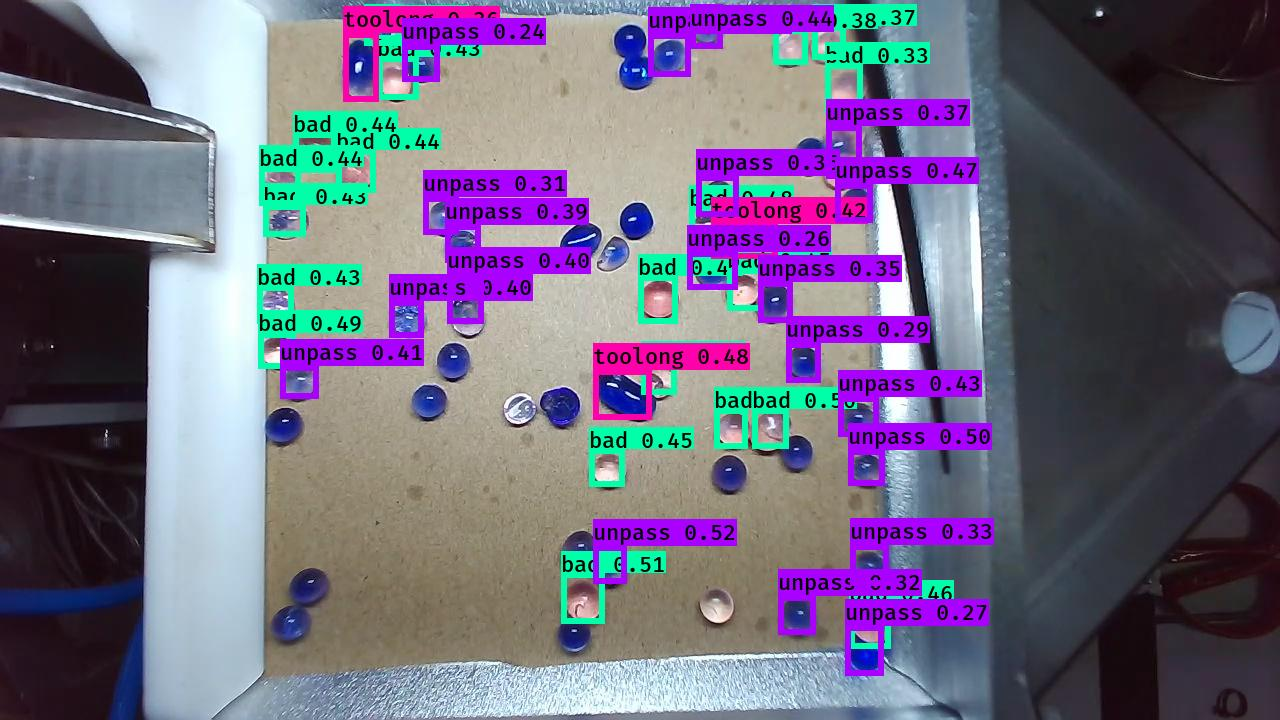bad: (559, 577, 605, 621), (297, 128, 341, 173), (639, 277, 683, 322), (336, 149, 379, 194), (826, 68, 869, 113), (259, 169, 306, 209), (753, 407, 792, 455), (694, 585, 735, 629), (824, 151, 864, 191), (850, 606, 893, 643), (365, 10, 404, 49), (809, 29, 846, 69), (269, 205, 313, 238), (715, 411, 752, 450), (770, 30, 807, 69), (591, 453, 632, 488), (258, 288, 295, 326), (689, 206, 725, 244), (724, 274, 760, 310), (501, 392, 536, 428), (642, 363, 675, 399), (260, 334, 295, 367), (379, 67, 412, 102)
defact: (595, 234, 631, 271)
pass: (556, 219, 601, 264), (540, 389, 581, 433), (709, 453, 750, 497), (263, 408, 306, 449), (287, 568, 330, 609), (270, 604, 311, 646), (411, 382, 452, 423), (436, 337, 477, 377), (559, 526, 595, 569), (779, 598, 818, 637), (555, 614, 593, 654), (616, 53, 654, 93), (616, 202, 654, 241), (793, 135, 827, 178), (779, 436, 814, 474), (614, 22, 647, 62)
toolong: (594, 371, 654, 423), (342, 40, 381, 103), (714, 223, 771, 262)
unpass: (823, 120, 866, 163), (839, 396, 880, 440), (849, 547, 890, 589), (750, 283, 791, 324), (696, 251, 736, 291), (388, 299, 427, 340), (277, 364, 319, 401), (449, 295, 486, 337), (842, 637, 881, 676), (786, 344, 822, 386), (402, 44, 439, 84), (594, 543, 627, 587), (444, 228, 482, 266), (693, 7, 728, 48), (652, 36, 686, 78), (847, 451, 885, 487), (839, 185, 875, 222), (450, 266, 486, 301), (702, 180, 735, 217), (430, 201, 463, 237)
